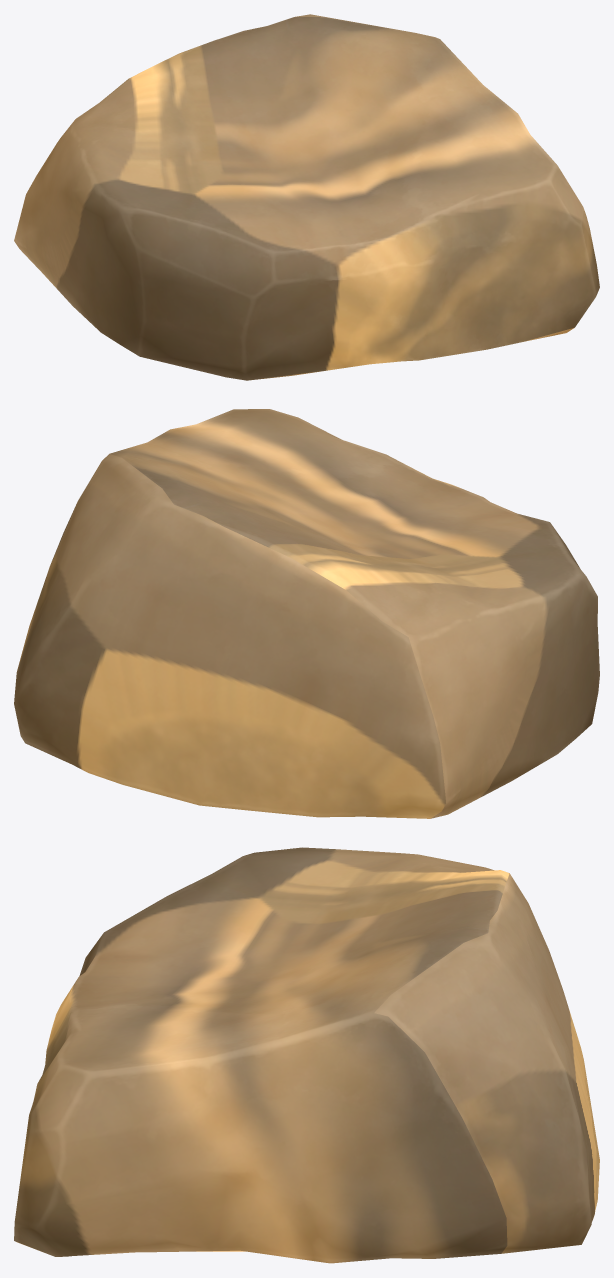
The model's file is SM_Rock_01.fbx.
The picture shows the model from 3 angles, top to bottom: view 1: azimuth 30°, elevation 25°; view 2: azimuth 150°, elevation 25°; view 3: azimuth 270°, elevation 25°; orthographic projection. The views are drawn at different scales.
Visible parts, largest first — view 1: SM_Rock_01_LOD0; view 2: SM_Rock_01_LOD0; view 3: SM_Rock_01_LOD0.
Part boxes in pixels (x1,y1,x2,y2): SM_Rock_01_LOD0: [14, 14, 599, 380]; SM_Rock_01_LOD0: [14, 409, 599, 818]; SM_Rock_01_LOD0: [14, 847, 599, 1263].
Size of the model in its own units: 328 by 331 by 169.
